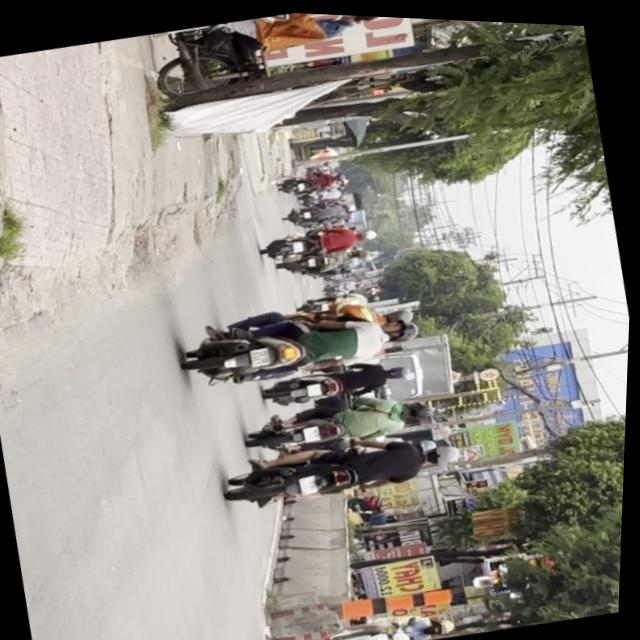helmet: (427, 437, 467, 466), (385, 314, 425, 342)
licenseplate: (177, 278, 432, 401), (223, 413, 472, 520)
nohelmet: (252, 344, 275, 365), (303, 472, 324, 492)
